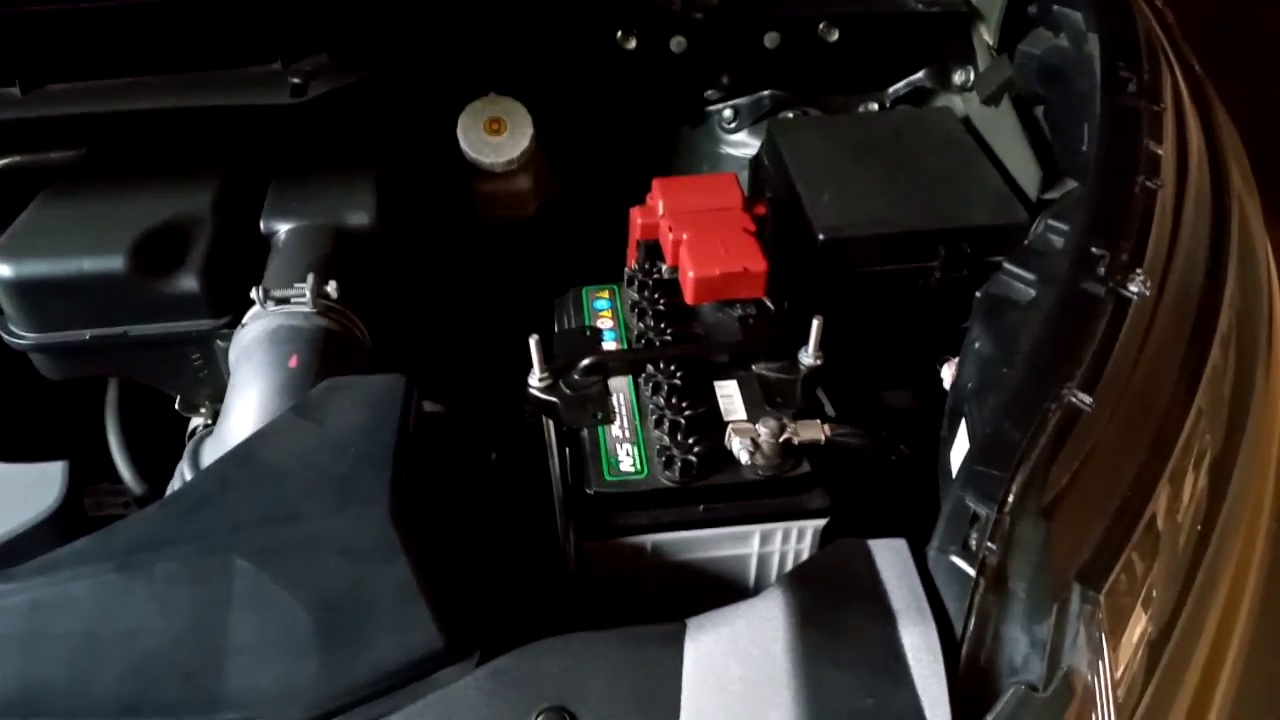battery: (532, 246, 838, 530)
neg_connected: (713, 398, 847, 469)
pos_connected: (608, 179, 792, 320)
